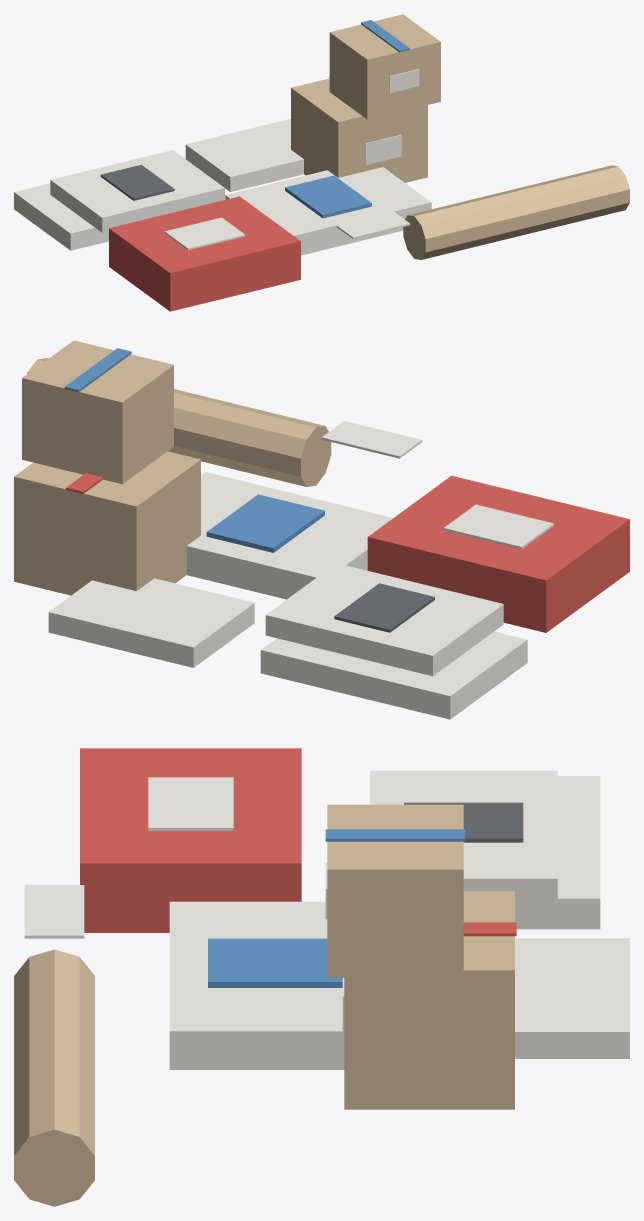
Rendered from parcel-depot-and-sorting-hall-parcel-depot-and-sorting-ff038fb8__34803.glb.
The picture shows the model from 3 angles, top to bottom: view 1: azimuth 30°, elevation 25°; view 2: azimuth 150°, elevation 25°; view 3: azimuth 270°, elevation 25°; orthographic projection. The views are drawn at different scales.
Parts seen in each view (by area): view 1: parcel-depot-and-sorting-hall-jiffy-bag-and-box-assortment; view 2: parcel-depot-and-sorting-hall-jiffy-bag-and-box-assortment; view 3: parcel-depot-and-sorting-hall-jiffy-bag-and-box-assortment.
Part boxes in pixels (x1=…): parcel-depot-and-sorting-hall-jiffy-bag-and-box-assortment: x1=14, y1=14, x2=629, y2=311; parcel-depot-and-sorting-hall-jiffy-bag-and-box-assortment: x1=14, y1=340, x2=629, y2=719; parcel-depot-and-sorting-hall-jiffy-bag-and-box-assortment: x1=14, y1=748, x2=629, y2=1206.
Size of the model in its own units: 1.11 by 0.324 by 0.7225.
